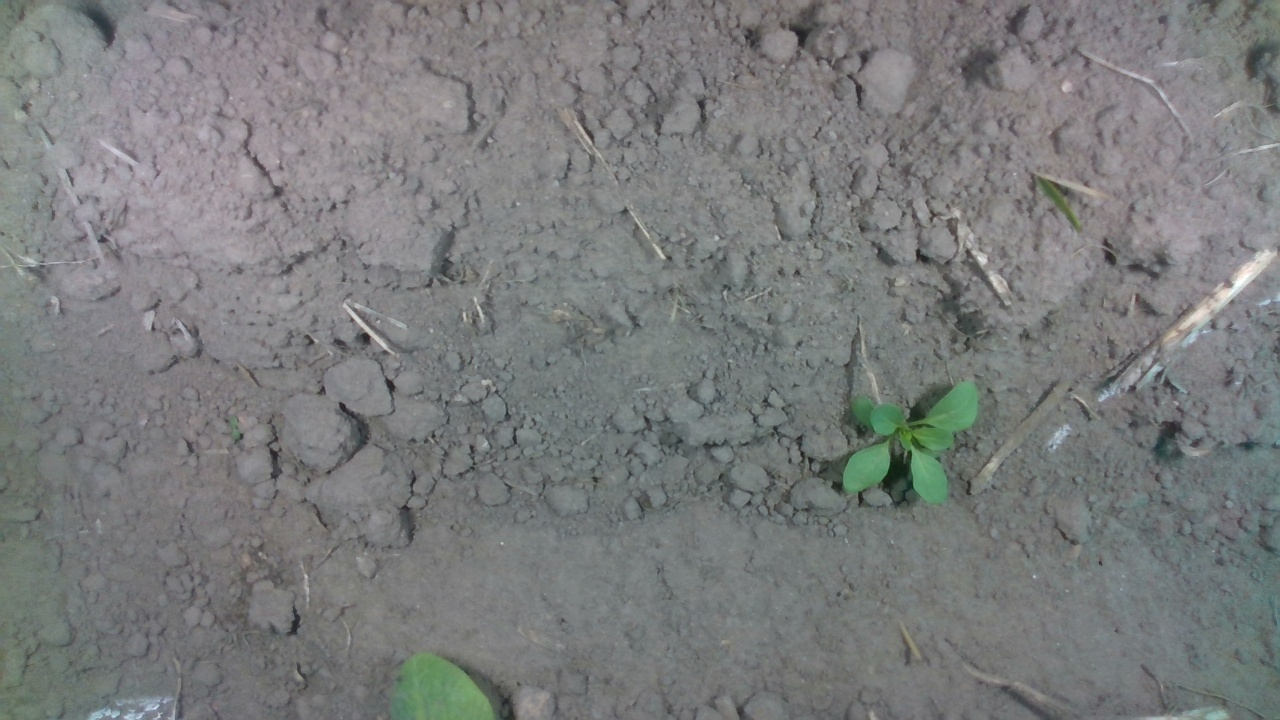weed: (225, 413, 241, 443)
